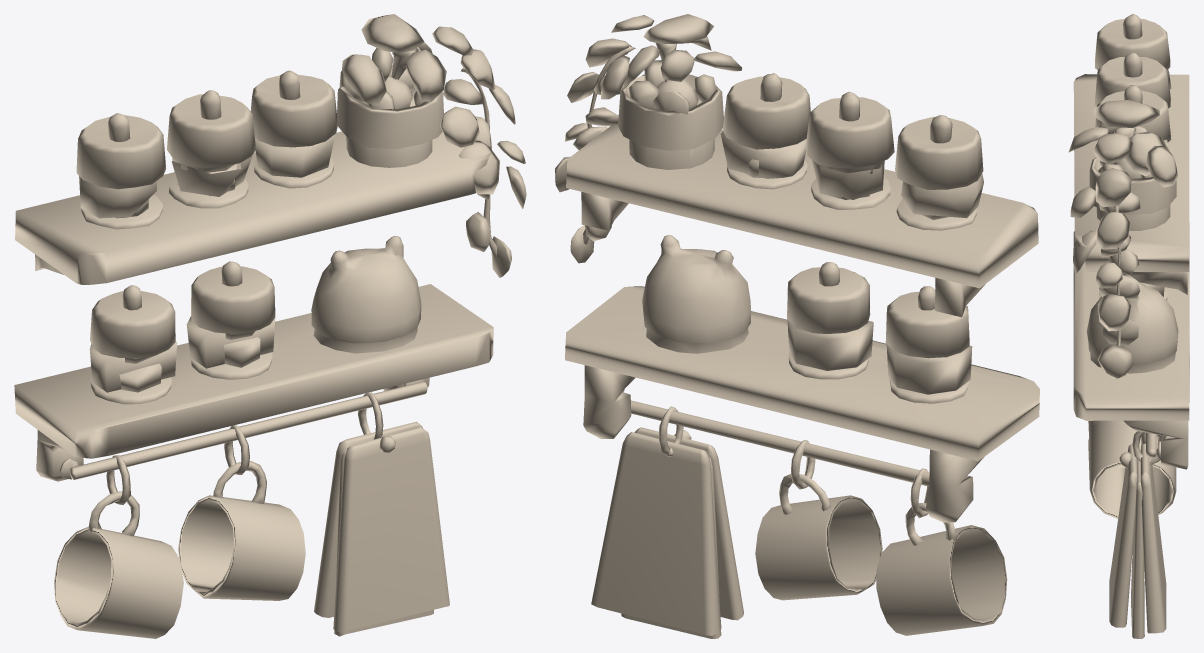
Rendered from kitchen-6-geometry.glb.
The picture shows the model from 3 angles, left to right: view 1: azimuth 30°, elevation 25°; view 2: azimuth 150°, elevation 25°; view 3: azimuth 270°, elevation 25°; orthographic projection. The views are drawn at different scales.
Size of the model in its own units: 0.8086 by 1 by 0.2144.
